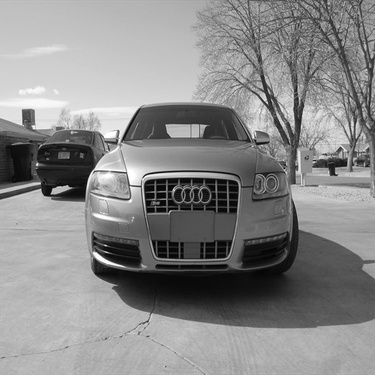car: (64, 99, 303, 282), (36, 126, 118, 199)
